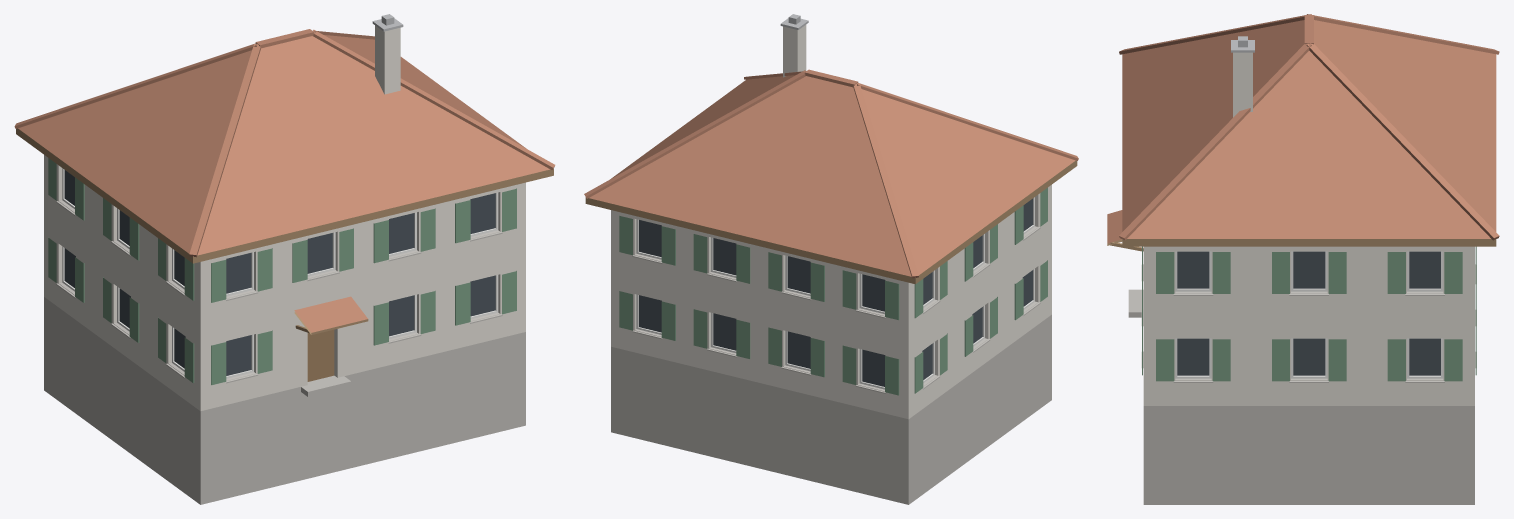
Rendered from house_hipped_2_m.glb.
The picture shows the model from 3 angles, left to right: view 1: azimuth 30°, elevation 25°; view 2: azimuth 150°, elevation 25°; view 3: azimuth 270°, elevation 25°; orthographic projection. The views are drawn at different scales.
Parts seen in each view (by area): view 1: house_hipped_2_m; view 2: house_hipped_2_m; view 3: house_hipped_2_m.
Boxes of the visible parts, x1=… form: house_hipped_2_m: x1=14, y1=14, x2=555, y2=504; house_hipped_2_m: x1=584, y1=14, x2=1078, y2=504; house_hipped_2_m: x1=1107, y1=14, x2=1499, y2=504.
Size of the model in its own units: 13.5 by 13.97 by 11.85.
